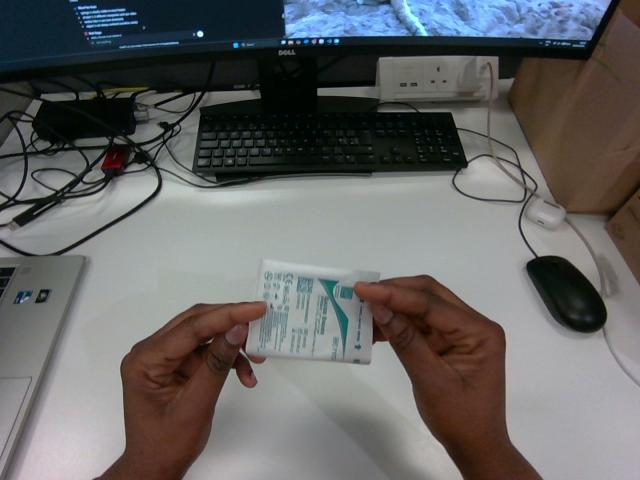gauze: (246, 260, 379, 363)
